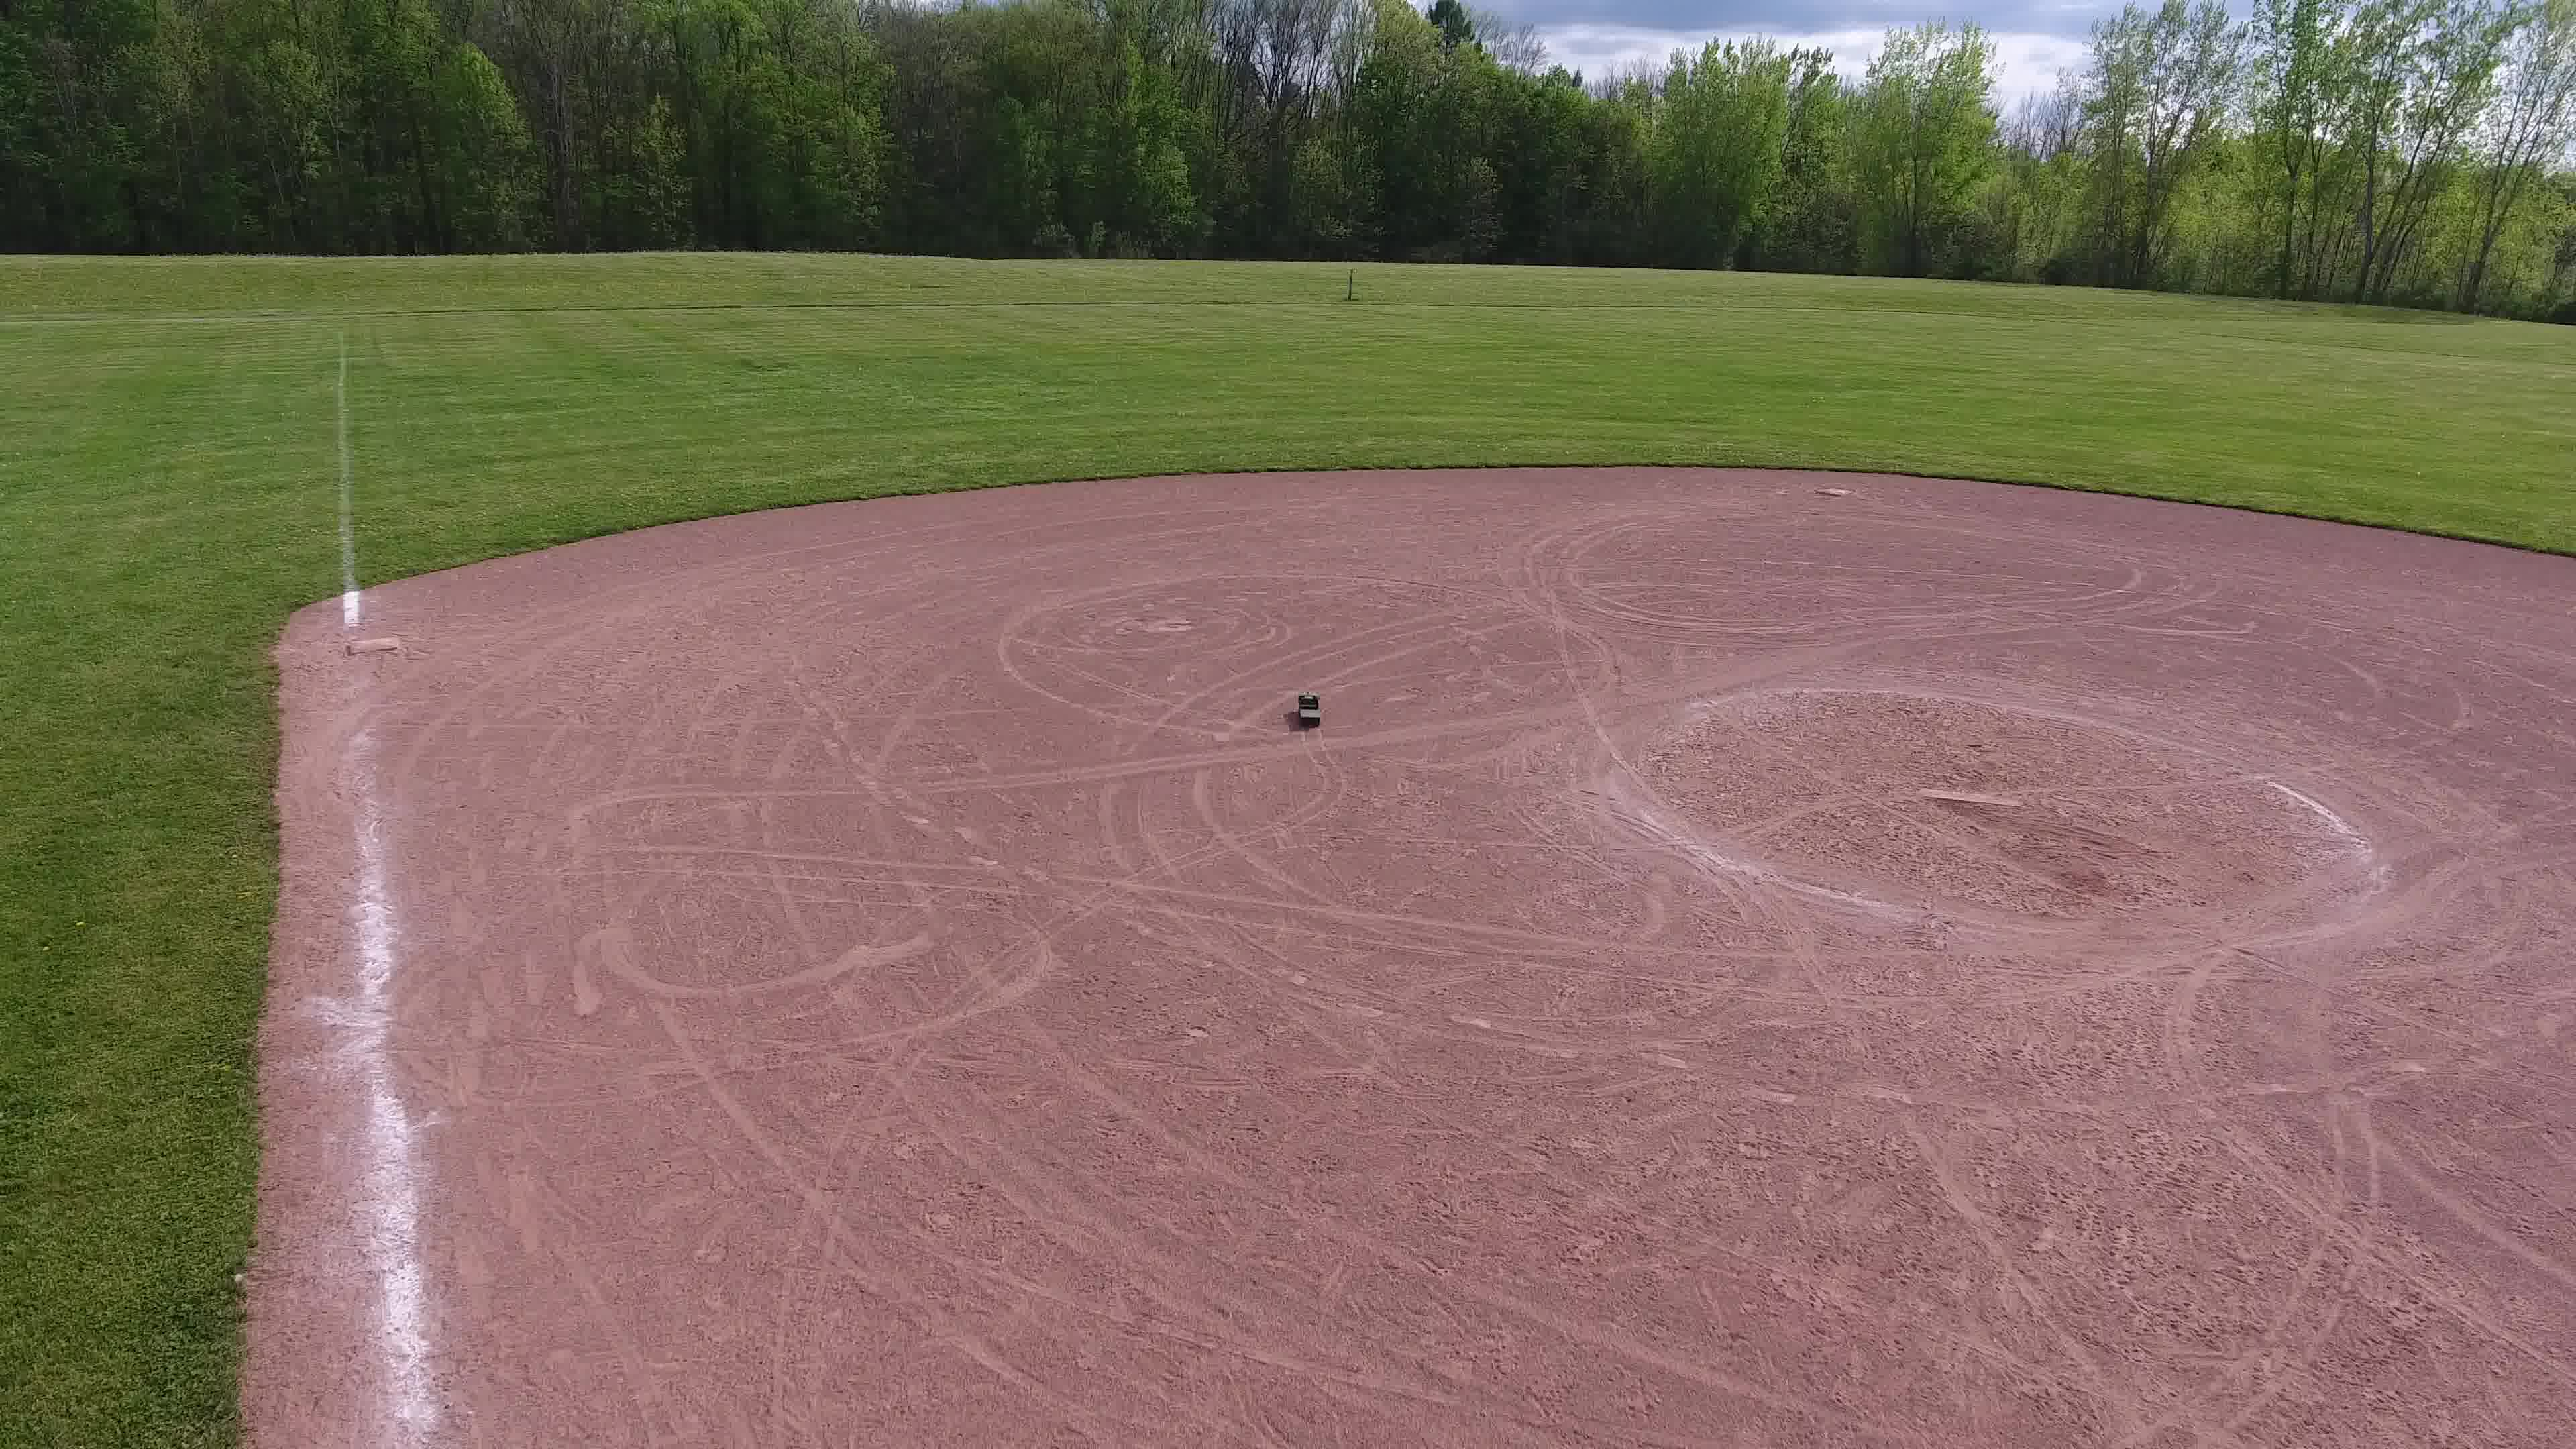transporter9: (1297, 688, 1323, 731)
